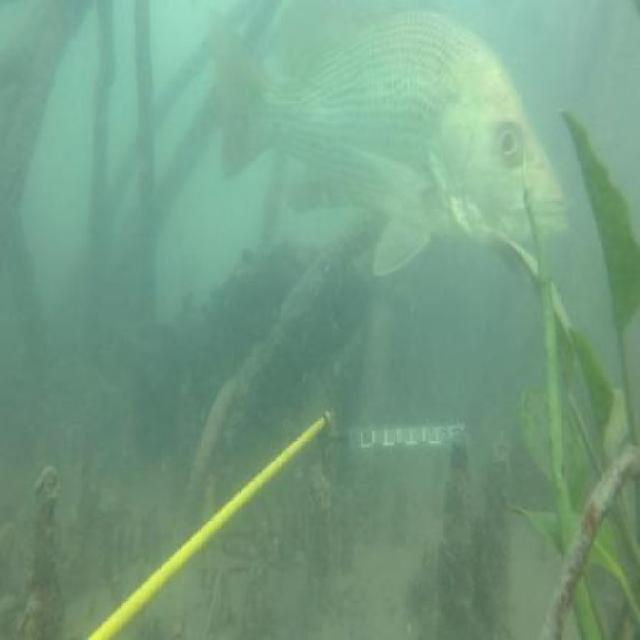lutjanus_johnii: (208, 2, 566, 282)
